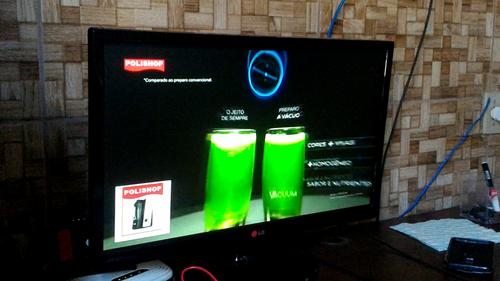Polishop #1: (113, 178, 172, 241)
